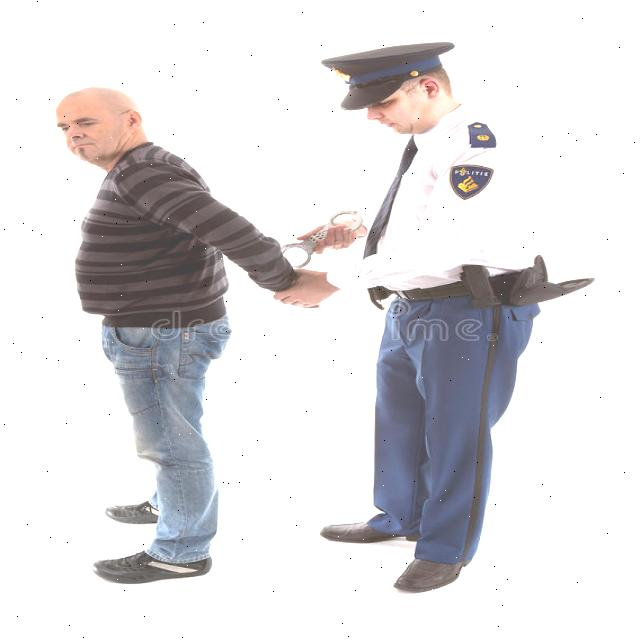police: (303, 16, 556, 615)
